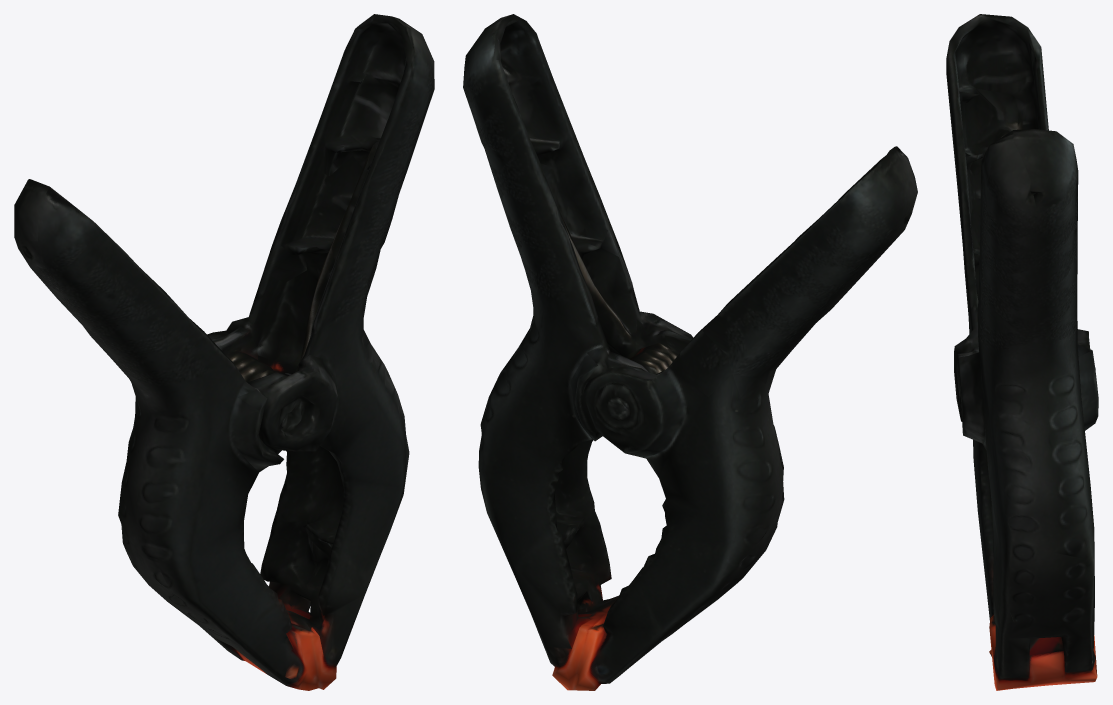
3 views of the same model, side by side, from view 1: azimuth 30°, elevation 25°; view 2: azimuth 150°, elevation 25°; view 3: azimuth 270°, elevation 25° (orthographic). The views are drawn at different scales.
Visible parts, largest first — view 1: textured.055; view 2: textured.055; view 3: textured.055.
Part boxes in pixels (x1,y1,x2,y2): textured.055: (14, 14, 434, 690); textured.055: (463, 14, 917, 690); textured.055: (946, 14, 1098, 690).
Size of the model in its own units: 0.1203 by 0.1712 by 0.0393.
1 material, 1 textured.
